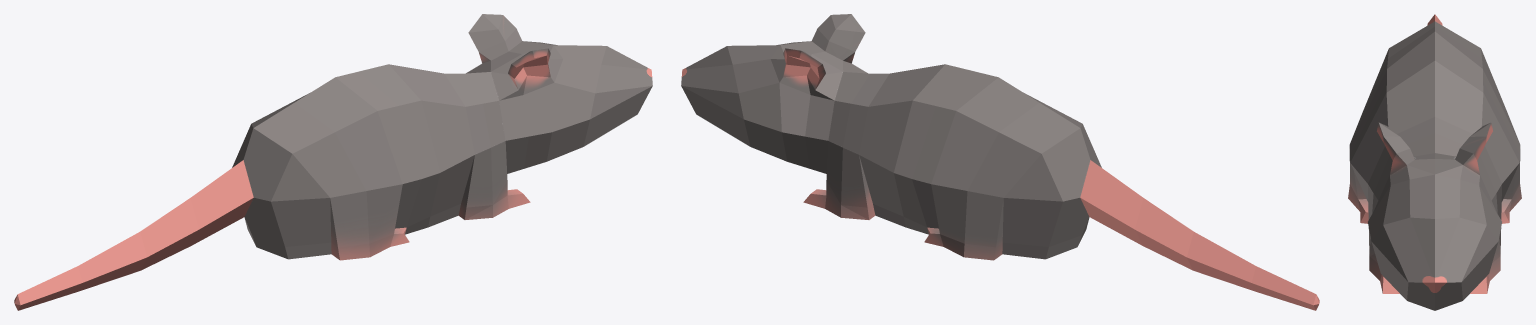
File: SM_ratFlat_Manley.fbx
The picture shows the model from 3 angles, left to right: view 1: azimuth 30°, elevation 25°; view 2: azimuth 150°, elevation 25°; view 3: azimuth 270°, elevation 25°; orthographic projection. The views are drawn at different scales.
Parts seen in each view (by area): view 1: Rat_Flat; view 2: Rat_Flat; view 3: Rat_Flat.
Part boxes in pixels (bbox=[...]): Rat_Flat: bbox=[14, 14, 652, 310]; Rat_Flat: bbox=[681, 14, 1319, 310]; Rat_Flat: bbox=[1348, 14, 1521, 310].
Size of the model in its own units: 36.02 by 8.6 by 7.59.
